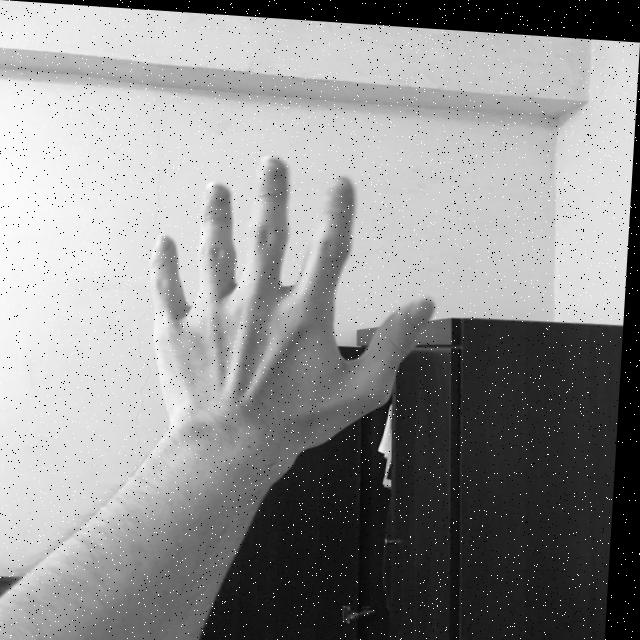hand: (142, 140, 450, 452)
